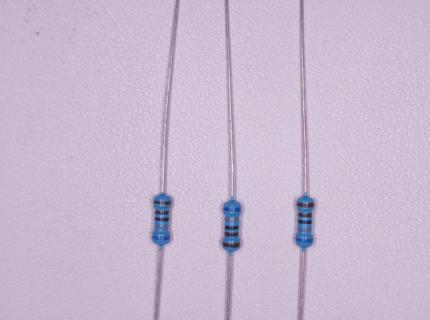Black band: (225, 226, 238, 230), (155, 217, 168, 221), (297, 220, 312, 223)
Blue band: (224, 207, 240, 212), (296, 237, 312, 242), (153, 236, 170, 240)
Brown band: (223, 242, 240, 248), (299, 213, 312, 218), (298, 203, 313, 207), (225, 232, 239, 236), (155, 210, 168, 214), (154, 201, 171, 204)
Grey band: (155, 225, 168, 229), (225, 218, 239, 221), (297, 228, 311, 231)
